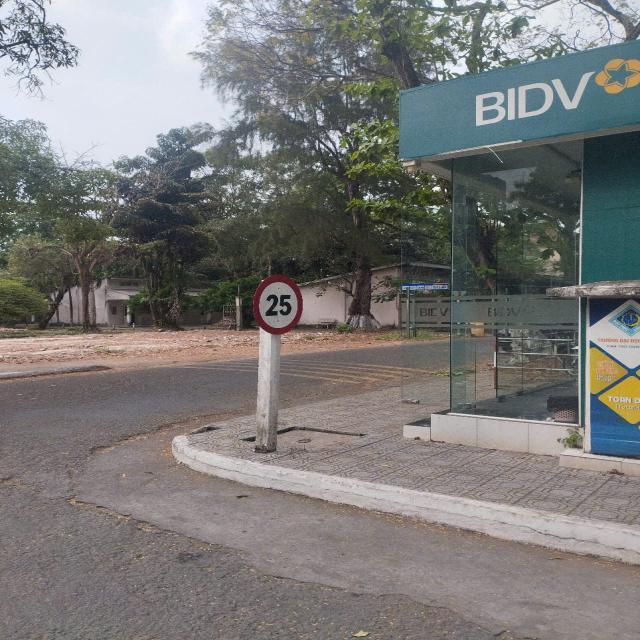Tre_Em: (252, 274, 304, 335)
